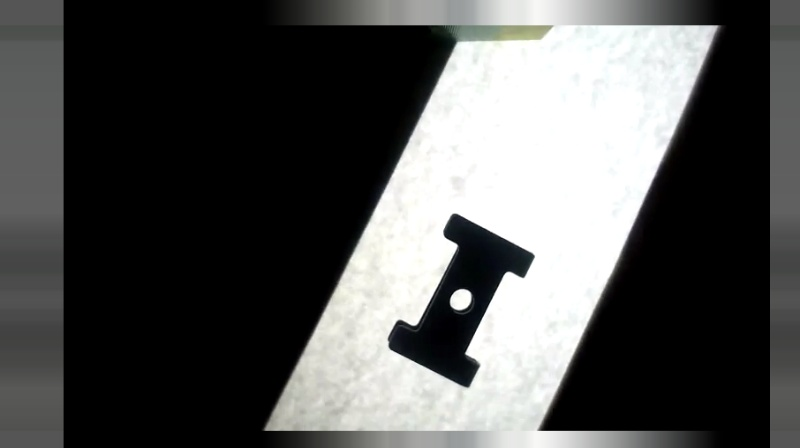O002: (386, 211, 538, 388)
